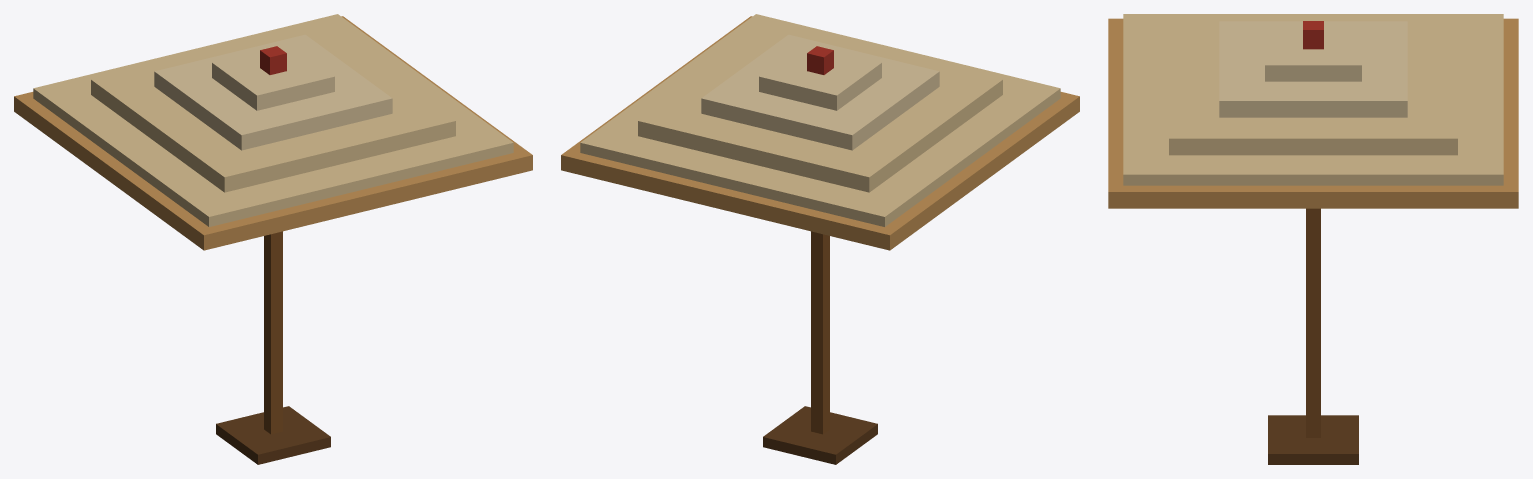
File: nt-parasol.glb
3 renders of one model, left to right at view 1: azimuth 30°, elevation 25°; view 2: azimuth 150°, elevation 25°; view 3: azimuth 270°, elevation 25°, orthographic. The views are drawn at different scales.
Visible parts, largest first — view 1: box-prop; view 2: box-prop; view 3: box-prop.
Boxes of the visible parts, <box> form: box-prop: <box>14,14,532,464</box>; box-prop: <box>561,14,1079,464</box>; box-prop: <box>1108,14,1518,464</box>.
Size of the model in its own units: 2.7 by 3.05 by 2.7.
